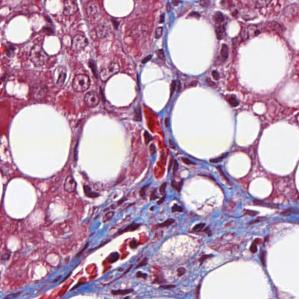ballooning: (73, 108, 140, 194), (164, 14, 223, 82), (178, 171, 228, 219)
